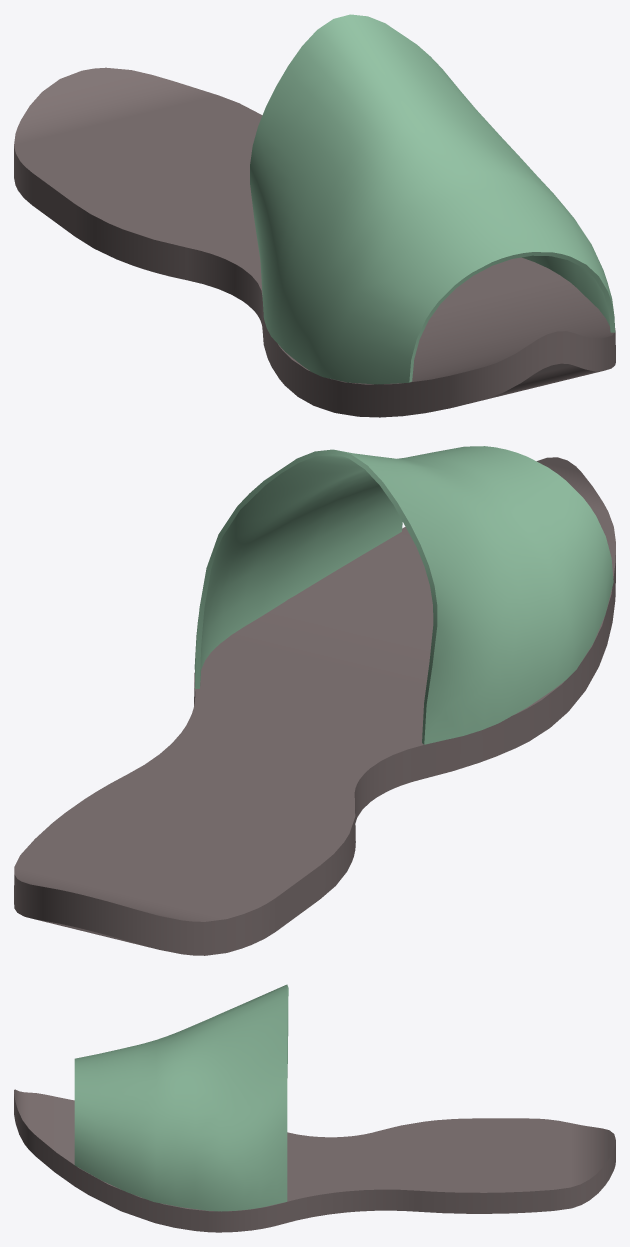
3 views of the same model, one above another, from view 1: azimuth 30°, elevation 25°; view 2: azimuth 150°, elevation 25°; view 3: azimuth 270°, elevation 25° (orthographic). The views are drawn at different scales.
Parts seen in each view (by area): view 1: ThickSurface.1, PartBody; view 2: PartBody, ThickSurface.1; view 3: ThickSurface.1, PartBody.
Part boxes in pixels (x1,y1,x2,y2): ThickSurface.1: (250, 14, 615, 384); PartBody: (14, 67, 615, 417); PartBody: (14, 457, 615, 955); ThickSurface.1: (194, 446, 613, 744); ThickSurface.1: (74, 984, 288, 1211); PartBody: (14, 1089, 615, 1232).
Size of the model in its own units: 21.76 by 20.81 by 59.5.
